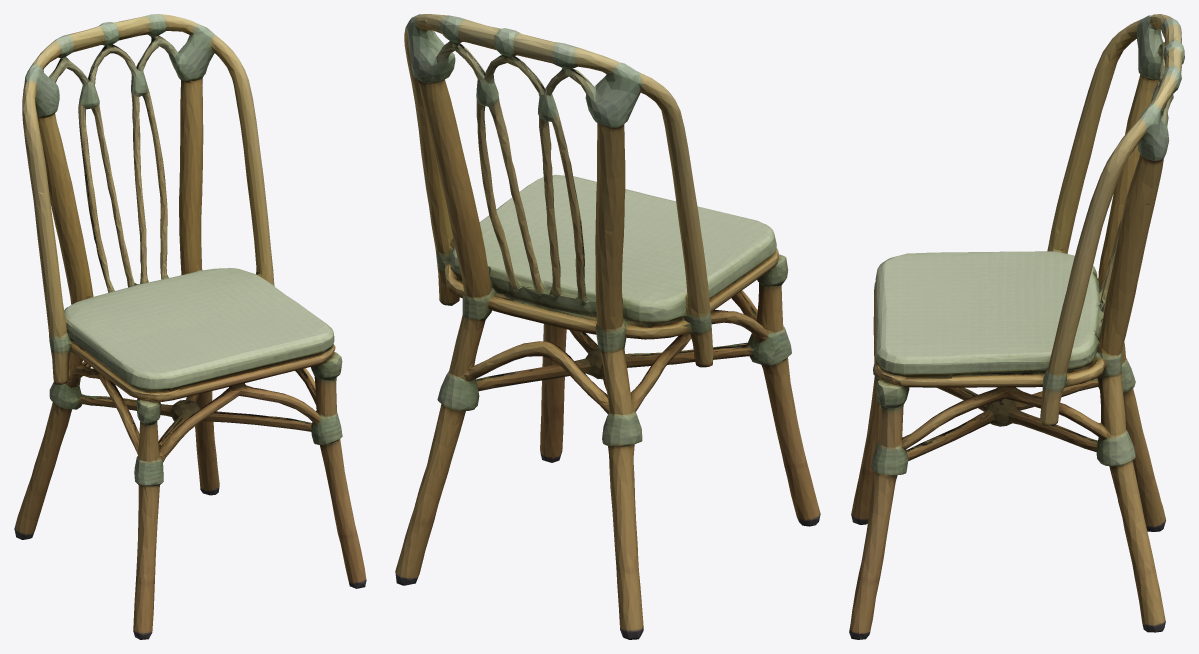
File: e3076-bistrostuhl.glb
3 views of the same model, side by side, from view 1: azimuth 30°, elevation 25°; view 2: azimuth 150°, elevation 25°; view 3: azimuth 270°, elevation 25° (orthographic). The views are drawn at different scales.
Visible parts, largest first — view 1: geometry_0; view 2: geometry_0; view 3: geometry_0.
Part boxes in pixels (<box>): geometry_0: <box>14,14,366,639</box>; geometry_0: <box>395,14,820,639</box>; geometry_0: <box>849,14,1184,639</box>.
Size of the model in its own units: 0.4977 by 0.9995 by 0.5681.
1 material, 1 textured.
